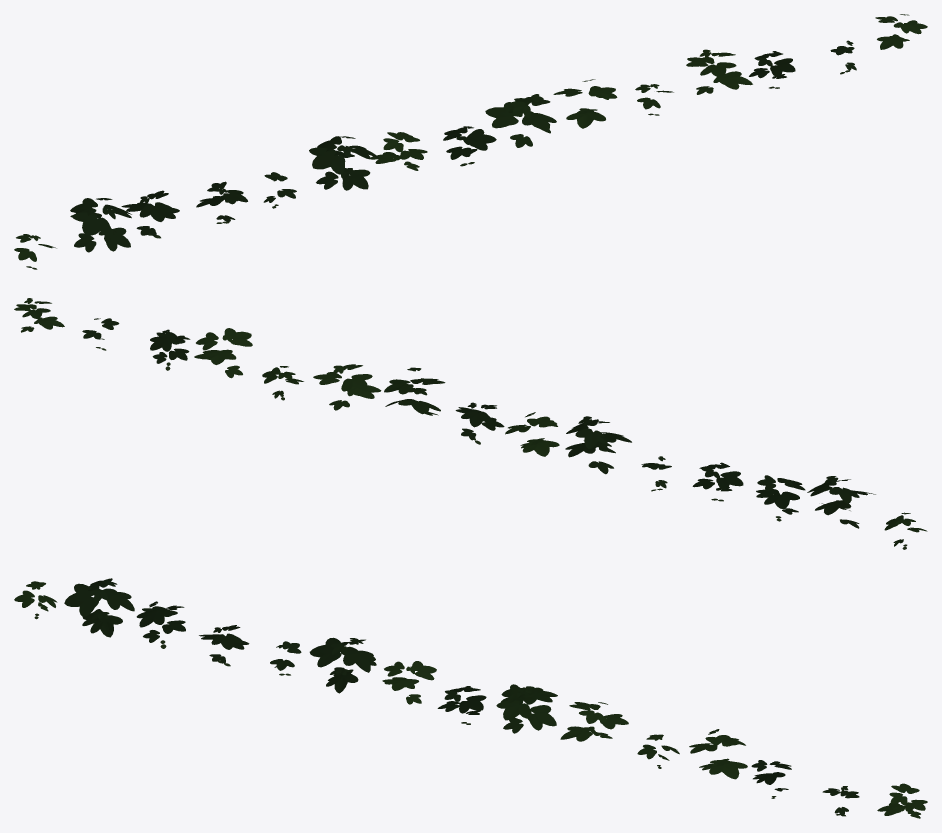
Rendered from ROW_03_SEG0_foliage.dae.
The picture shows the model from 3 angles, top to bottom: view 1: azimuth 30°, elevation 25°; view 2: azimuth 150°, elevation 25°; view 3: azimuth 330°, elevation 25°; orthographic projection.
Parts seen in each view (by area): view 1: ROW_03_SEG0_foliage; view 2: ROW_03_SEG0_foliage; view 3: ROW_03_SEG0_foliage.
Boxes of the visible parts, x1=… form: ROW_03_SEG0_foliage: x1=14, y1=14, x2=927, y2=269; ROW_03_SEG0_foliage: x1=14, y1=298, x2=927, y2=549; ROW_03_SEG0_foliage: x1=14, y1=578, x2=927, y2=818.
Size of the model in its own units: 4.48 by 0.3515 by 0.2594.
